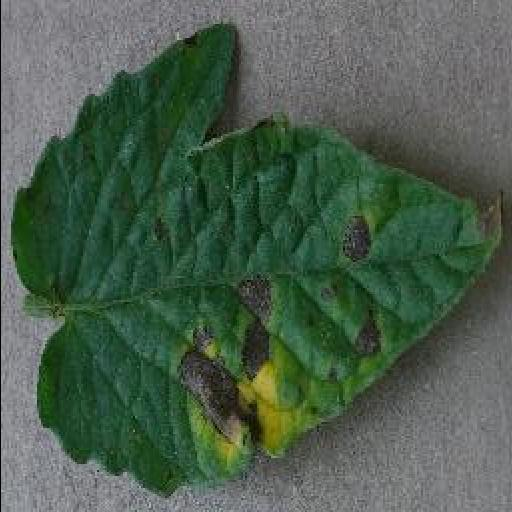disease_tomato: (11, 27, 505, 500)
